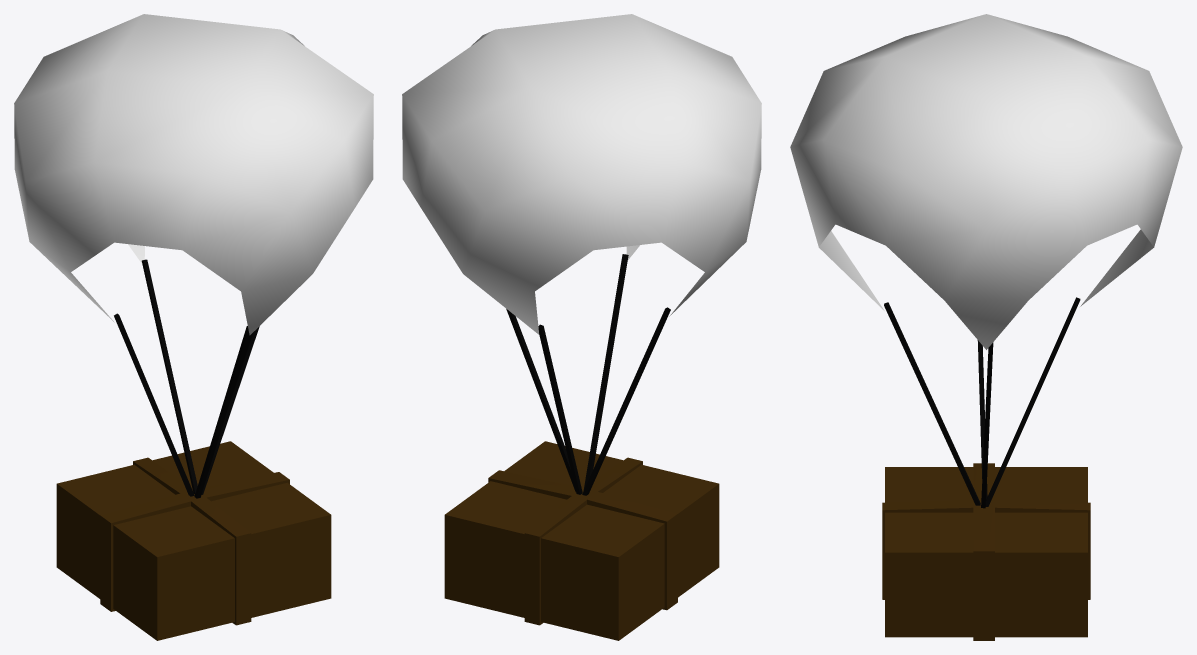
Rendered from CarePackage.fbx.
3 renders of one model, left to right at view 1: azimuth 30°, elevation 25°; view 2: azimuth 150°, elevation 25°; view 3: azimuth 270°, elevation 25°, orthographic.
Visible parts, largest first — view 1: Sail, Package, Strings; view 2: Sail, Package, Strings; view 3: Sail, Package, Strings.
Boxes of the visible parts, x1,y1,x2,y2 form: Sail: (14, 14, 373, 335); Package: (56, 441, 331, 640); Strings: (114, 259, 259, 498); Sail: (402, 14, 761, 334); Package: (444, 441, 719, 640); Strings: (506, 254, 670, 495); Sail: (790, 14, 1182, 349); Package: (882, 463, 1090, 640); Strings: (884, 297, 1080, 508).
Bounding box in the file's own units: 0.9787 × 1.49 × 0.9787.
